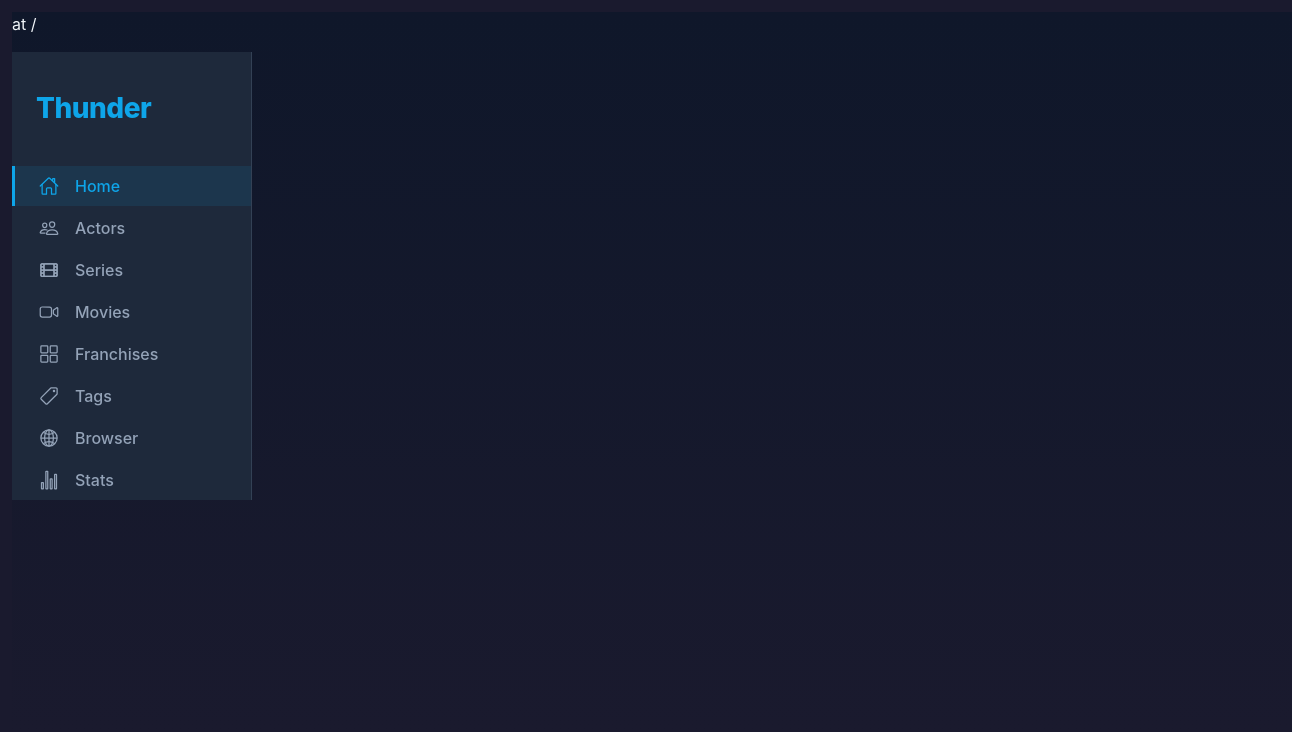
Sidebar › navigates to the franchise list
The width and height of the screenshot is (1292, 732).
Click the button "Franchises" at [132, 354], box [12,334,251,374]
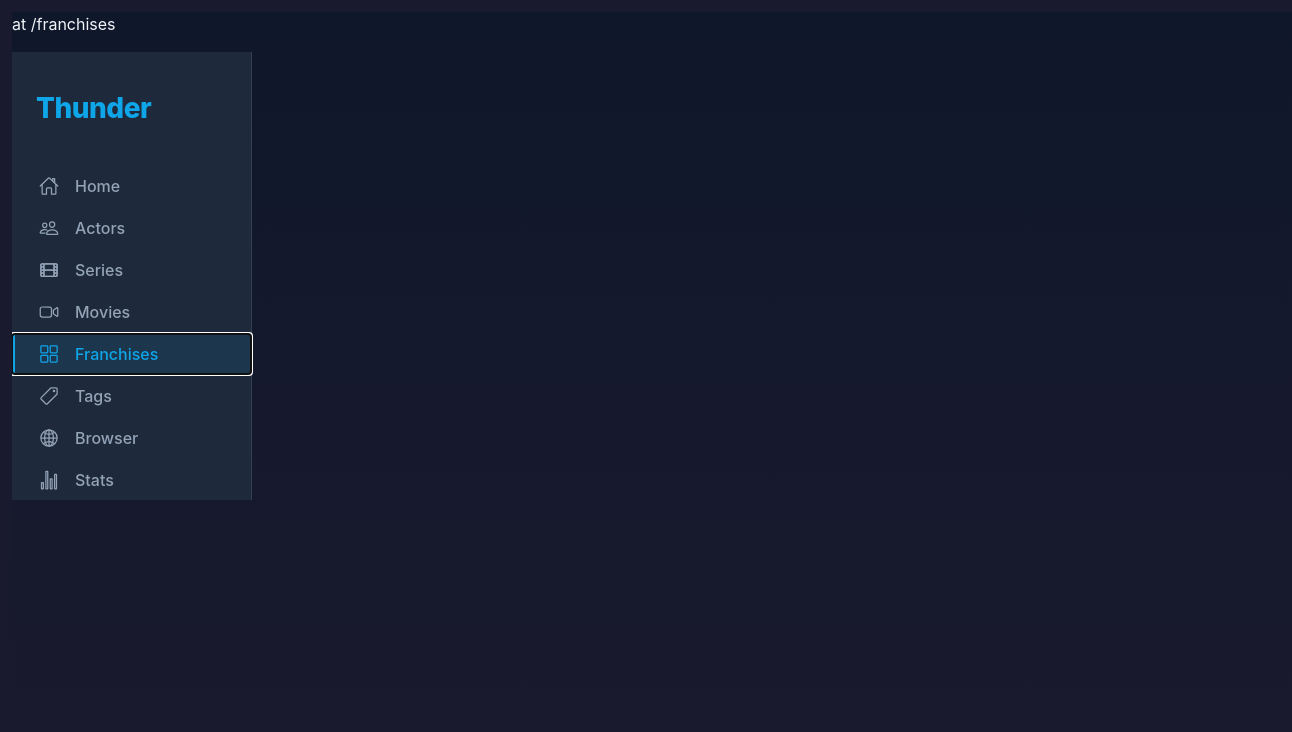
Expected: the text "at /franchises" is shown, [12,14,116,34]
